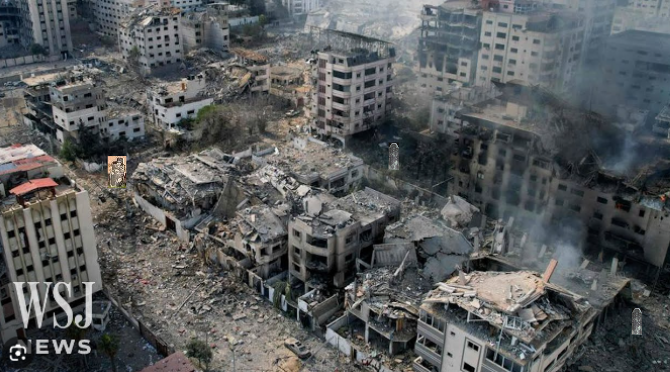HVT1: (111, 158, 124, 181), (631, 308, 642, 335), (389, 143, 399, 168)
